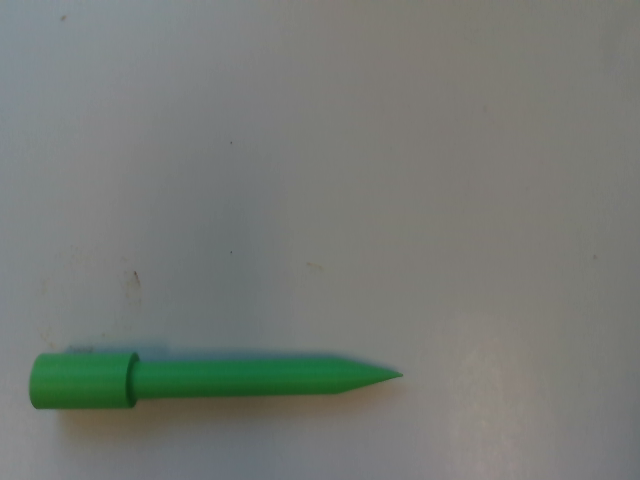Probe: (24, 345, 410, 417)
